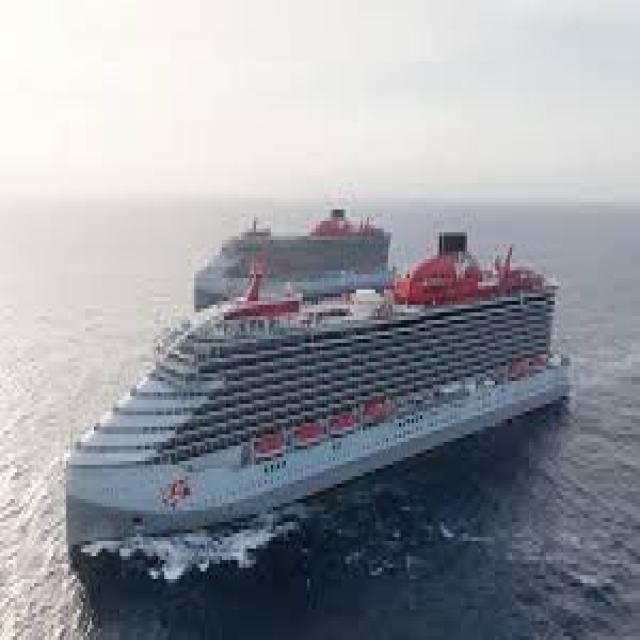PassengerShip: (51, 135, 576, 568)
